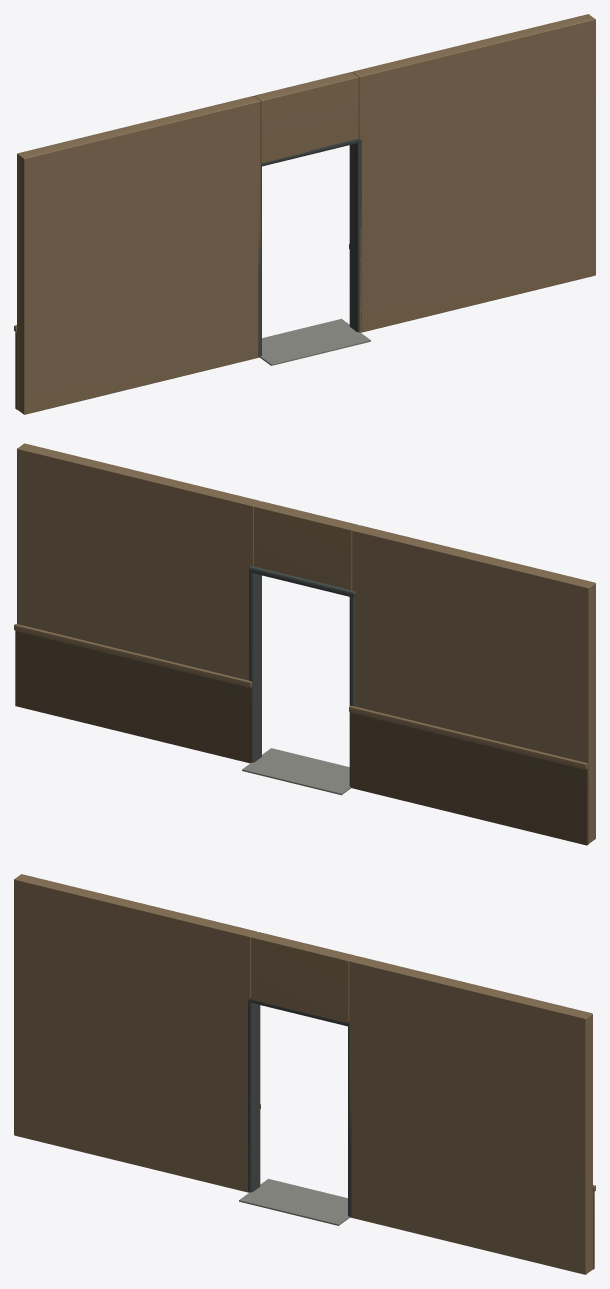
The model's file is Furniture_RearLining62.fbx.
3 views of the same model, one above another, from view 1: azimuth 30°, elevation 25°; view 2: azimuth 150°, elevation 25°; view 3: azimuth 330°, elevation 25° (orthographic).
Parts seen in each view (by area): view 1: Furniture_RearLining62; view 2: Furniture_RearLining62; view 3: Furniture_RearLining62.
Boxes of the visible parts, x1,y1,x2,y2 form: Furniture_RearLining62: (14,14,595,414); Furniture_RearLining62: (14,443,595,845); Furniture_RearLining62: (14,874,595,1274).
Bounding box in the file's own units: 700 × 301 × 62.
